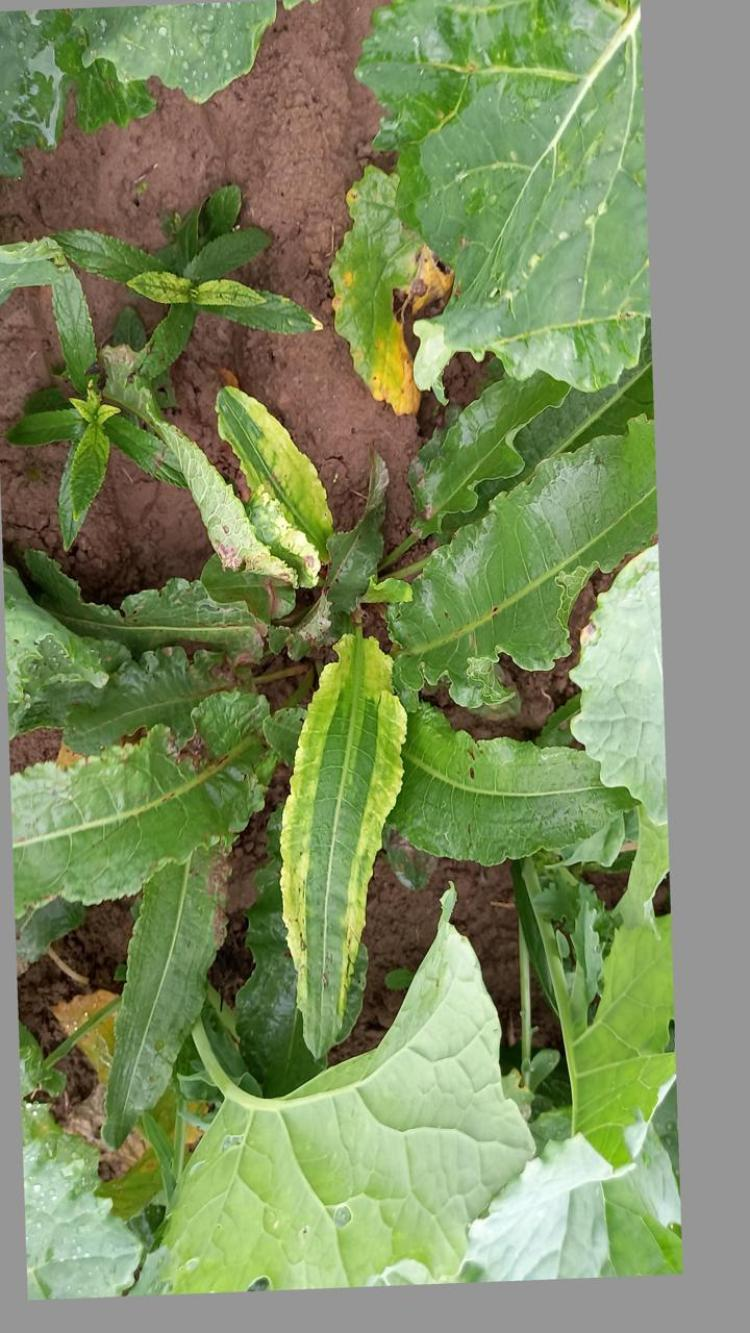zhavel: (23, 381, 660, 1148)
